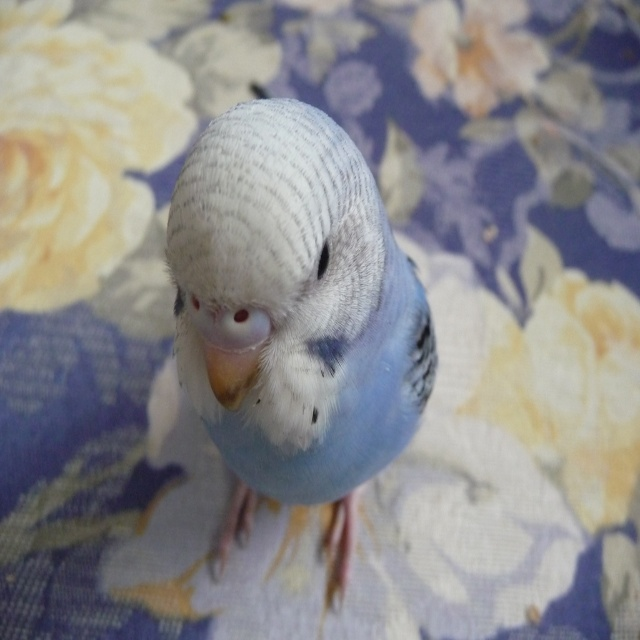Parrot: (162, 91, 433, 618)
